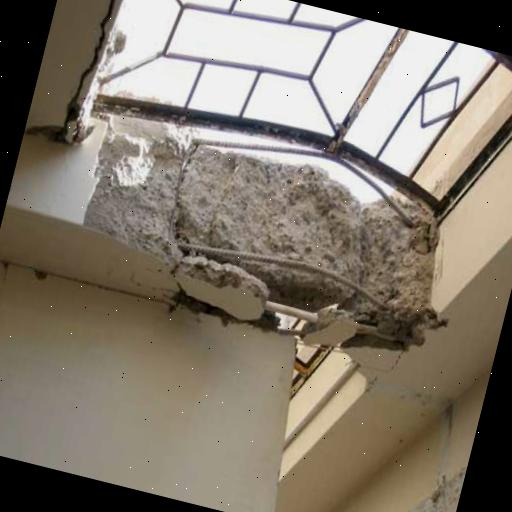spalling: (80, 129, 437, 346)
